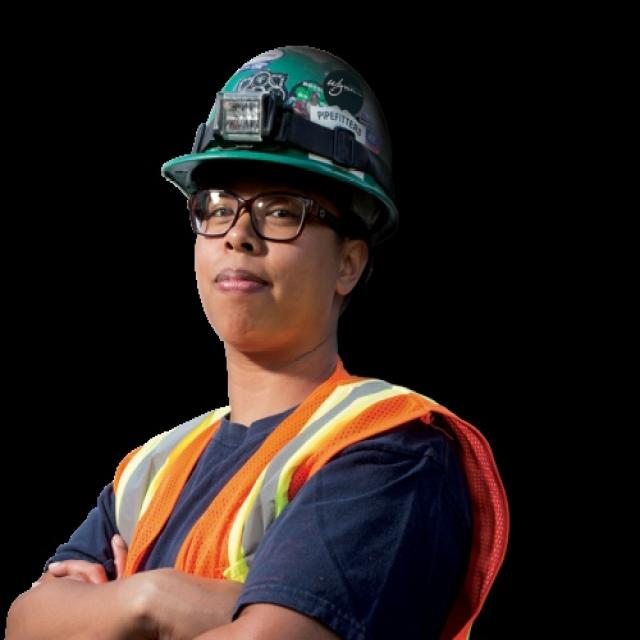Reflective-Jacket: (105, 363, 517, 636)
Safety-Helmet: (160, 43, 411, 214)
